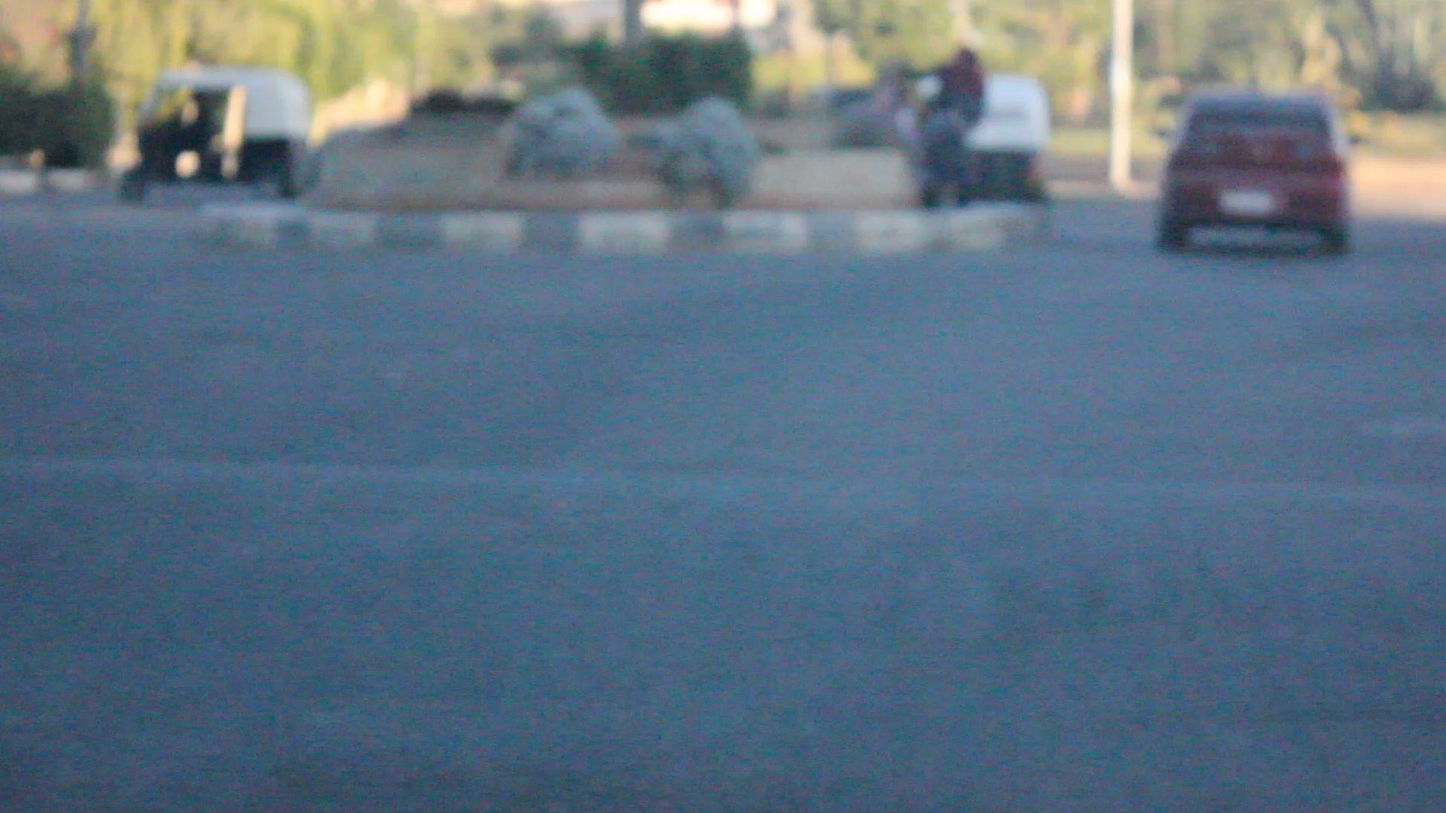Bump: (0, 448, 1445, 789)
